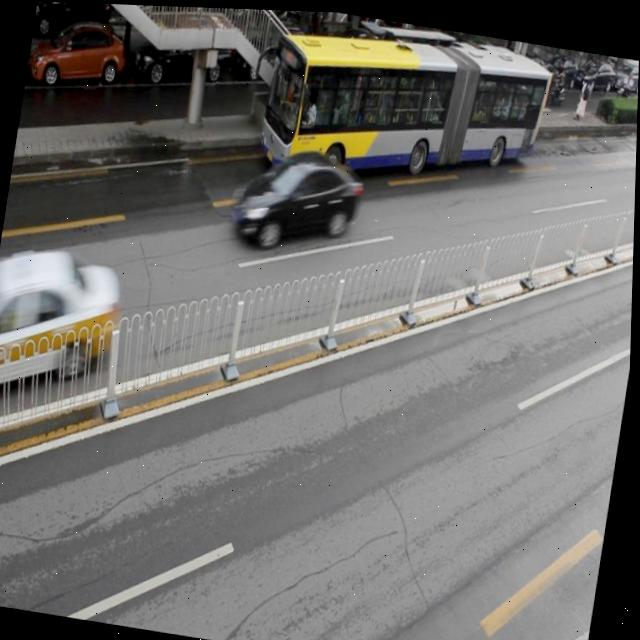car: (0, 237, 129, 402), (233, 135, 368, 257), (26, 12, 128, 93), (131, 13, 232, 87), (235, 14, 310, 88), (320, 26, 395, 91)
van: (256, 8, 553, 208)
